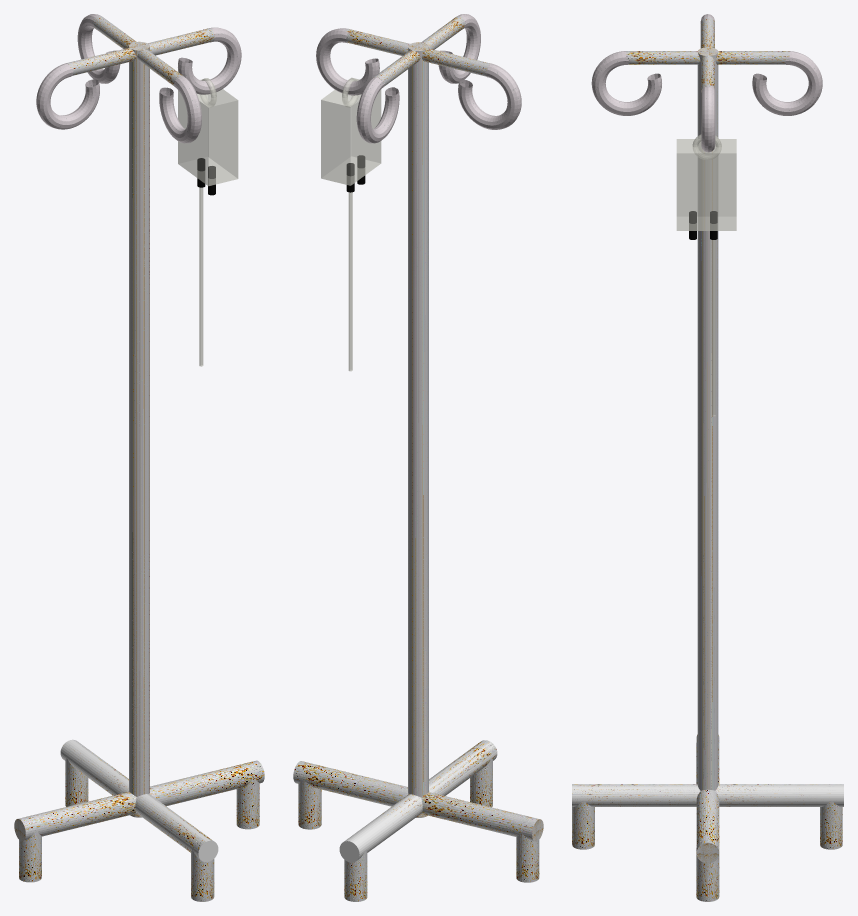
File: drip.glb
3 views of the same model, side by side, from view 1: azimuth 30°, elevation 25°; view 2: azimuth 150°, elevation 25°; view 3: azimuth 270°, elevation 25° (orthographic).
Visible parts, largest first — view 1: Цилиндр.003, Куб, Цилиндр.002, Цилиндр.005; view 2: Цилиндр.003, Куб, Цилиндр.002, Цилиндр.005; view 3: Цилиндр.003, Цилиндр.002, Куб, Цилиндр.005.
Part boxes in pixels (x1,y1,x2,y2): Цилиндр.003: [14, 14, 264, 901]; Куб: [178, 78, 238, 186]; Цилиндр.002: [60, 740, 218, 862]; Цилиндр.005: [199, 187, 203, 366]; Цилиндр.003: [293, 14, 543, 901]; Куб: [321, 77, 381, 185]; Цилиндр.002: [339, 740, 497, 862]; Цилиндр.005: [348, 192, 352, 371]; Цилиндр.003: [572, 14, 843, 901]; Цилиндр.002: [572, 784, 843, 806]; Куб: [676, 139, 736, 230]; Цилиндр.005: [712, 240, 715, 416].
Size of the model in its own units: 2.81 by 9.05 by 2.81.
Materials: 3 (1 with a texture image).
